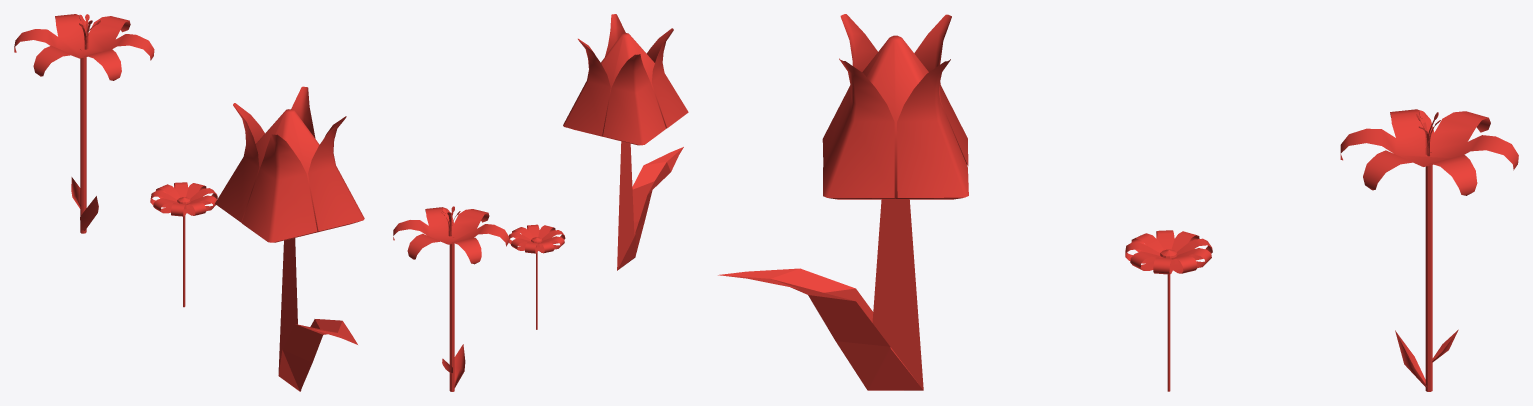
Rendered from fleur.fbx.
3 renders of one model, left to right at view 1: azimuth 30°, elevation 25°; view 2: azimuth 150°, elevation 25°; view 3: azimuth 270°, elevation 25°, orthographic. The views are drawn at different scales.
Parts seen in each view (by area): view 1: fleur, Circle.003, Plane; view 2: fleur, Circle.003, Plane; view 3: fleur, Circle.003, Plane.
Part boxes in pixels (x1,y1,x2,y2): fleur: (215,86,364,391); Circle.003: (14,14,154,233); Plane: (150,182,217,307); fleur: (563,14,688,270); Circle.003: (393,206,509,391); Plane: (509,224,565,329); fleur: (718,14,968,390); Circle.003: (1340,109,1518,391); Plane: (1125,230,1212,391).
Size of the model in its own units: 241 by 545 by 1121.
